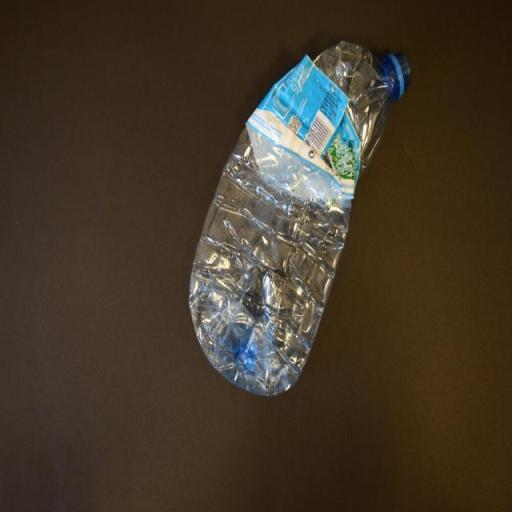plastic: (188, 43, 414, 398)
